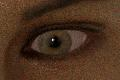eye: (40, 32, 70, 54)
